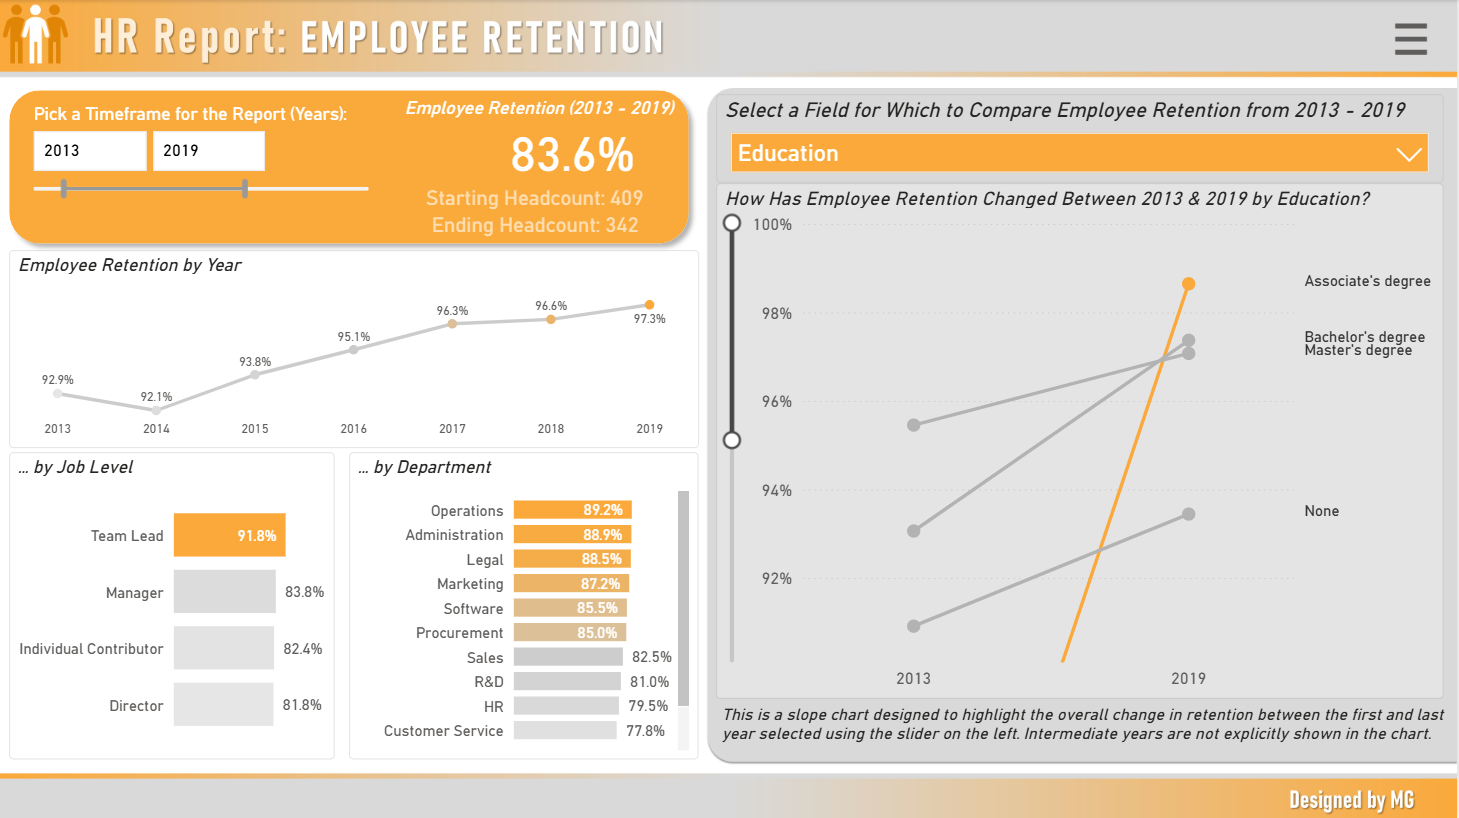

Layout of this report page (visuals, bound fields, positions):
{"tool":"powerbi","page":{"name":"Retention","canvas":[1280,720],"ordinal":2},"visuals":[{"type":"lineChart","title":"Employee Retention by Year","fields":{"Category":["Date.Year"],"Y":["_Measures.Retention"]},"box":[8.7,219.6,605.9,174.2],"z":0},{"type":"clusteredBarChart","title":"... by Job Level","fields":{"Category":["job_level_dim.job_level"],"Y":["_Measures.Retention"]},"box":[8.7,397.1,285.6,270.5],"z":1000},{"type":"barChart","title":"... by Department","fields":{"Category":["department_dim.department"],"Y":["_Measures.Retention"]},"box":[307.3,397.1,307.3,270.5],"z":2000},{"type":"slicer","fields":{"Values":["Parameter.Parameter"]},"box":[629.3,82.3,638.9,78],"z":3000},{"type":"lineChart","fields":{"Series":["education_dim.education"],"Category":["Date.Year"],"Y":["_Measures.Min-Max Retention"]},"box":[629.3,160.3,638.9,453],"z":4000},{"type":"shape","box":[0,70.3,614.6,152.6],"z":5000},{"type":"card","fields":{"Values":["_Measures.Retention"]},"box":[337.6,85.5,318.4,74.8],"z":6000},{"type":"card","fields":{"Values":["_Measures.Starting Headcount Text"]},"box":[350.6,149.3,240.2,48.7],"z":7000},{"type":"card","fields":{"Values":["_Measures.Ending Headcount Text"]},"box":[358.1,175.3,225.1,44.4],"z":8000},{"type":"slicer","fields":{"Values":["Date.Year"]},"box":[17.3,85.5,320.3,98.5],"z":9000},{"type":"textbox","box":[629.3,613.3,650.7,67.3],"z":9001}]}

Visuals, with their boxes in screenshot pixels (x1, y1, x2, y2), scaled from the page's 1280x720 canvas onto the 1459x818 screenshot:
"Employee Retention by Year" lineChart: l=10, t=249, r=701, b=447
"... by Job Level" clusteredBarChart: l=10, t=451, r=335, b=758
"... by Department" barChart: l=350, t=451, r=701, b=758
slicer - Parameter.Parameter: l=717, t=94, r=1446, b=182
lineChart - education_dim.education x Date.Year: l=717, t=182, r=1446, b=697
shape: l=0, t=80, r=701, b=253
card - _Measures.Retention: l=385, t=97, r=748, b=182
card - _Measures.Starting Headcount Text: l=400, t=170, r=673, b=225
card - _Measures.Ending Headcount Text: l=408, t=199, r=665, b=250
slicer - Date.Year: l=20, t=97, r=385, b=209
textbox: l=717, t=697, r=1458, b=773
